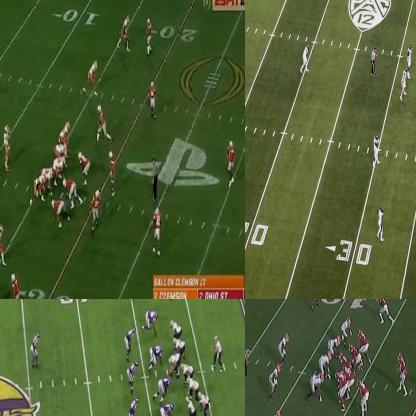CENTER: (53, 159, 65, 178), (169, 354, 179, 376), (339, 352, 348, 364)
DB: (225, 142, 238, 183), (29, 331, 40, 368), (150, 80, 159, 117), (11, 275, 23, 298), (377, 206, 385, 240), (152, 212, 158, 250), (373, 134, 379, 166), (303, 44, 309, 70), (311, 299, 321, 305)
LB: (123, 327, 136, 358), (109, 155, 119, 195), (90, 188, 98, 233), (270, 364, 281, 396), (278, 334, 288, 362), (127, 362, 137, 389), (126, 397, 138, 415), (406, 46, 412, 79), (402, 67, 406, 97)
QB: (210, 336, 224, 370), (398, 352, 407, 393), (3, 122, 10, 168)
SKILL: (117, 14, 130, 50), (143, 18, 153, 56), (197, 392, 212, 415), (87, 61, 97, 95), (358, 380, 368, 414), (378, 299, 389, 322), (0, 226, 7, 261), (185, 398, 199, 415), (342, 319, 351, 338)
